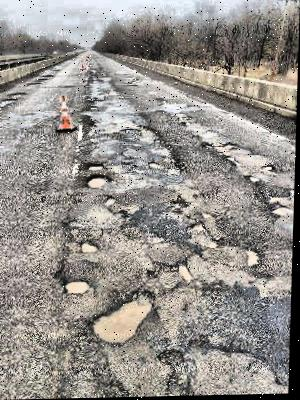pothole: (91, 289, 156, 345), (157, 348, 193, 396), (204, 142, 249, 157), (64, 278, 92, 296), (86, 174, 112, 190), (178, 262, 196, 284), (246, 249, 262, 270), (80, 240, 100, 253), (271, 206, 294, 216), (188, 221, 207, 233), (103, 195, 118, 210), (87, 160, 105, 171), (27, 78, 41, 89), (147, 160, 162, 169), (10, 91, 25, 100), (263, 164, 276, 174), (248, 175, 261, 185), (269, 196, 287, 203), (207, 239, 219, 249), (43, 72, 56, 81)
